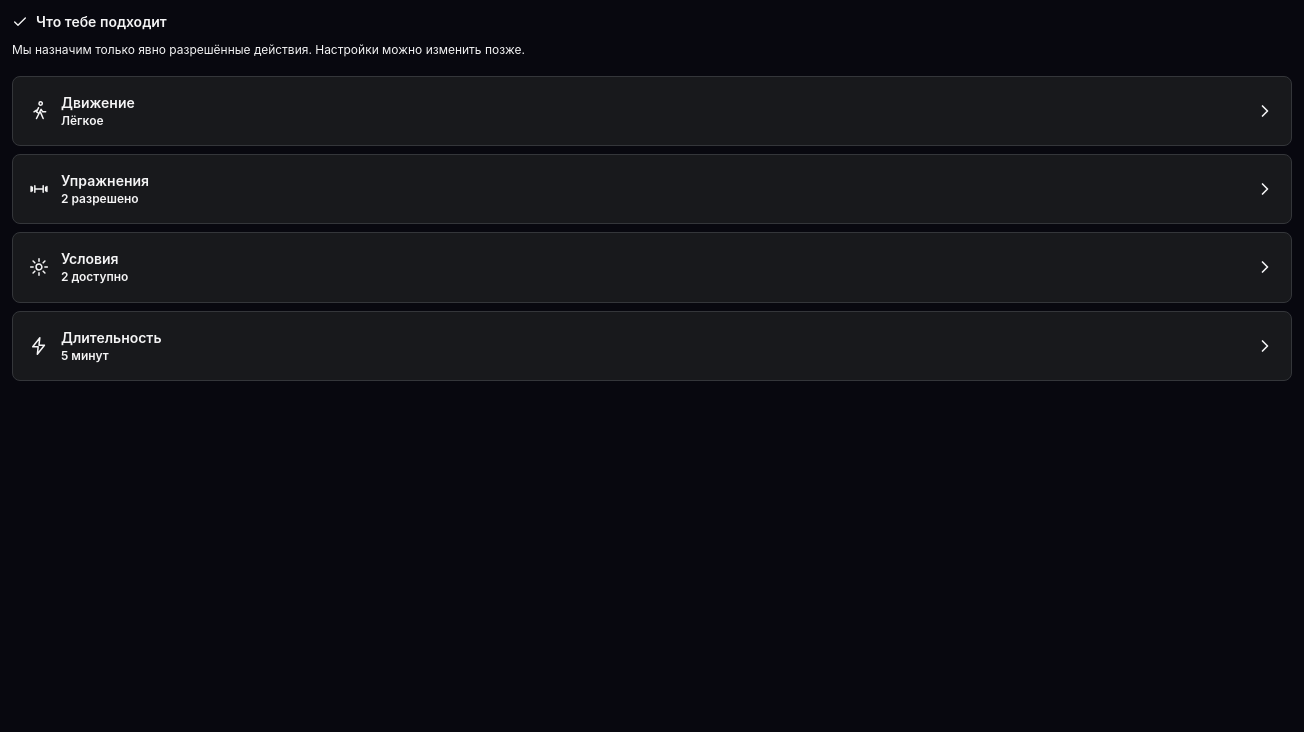
Test: персонализация пробуждения › показывает заполненную анкету компактно до нажатия редактирования
Click the button "Движение Лёгкое" at (98, 102), box x1=12 y1=76 x2=1292 y2=146
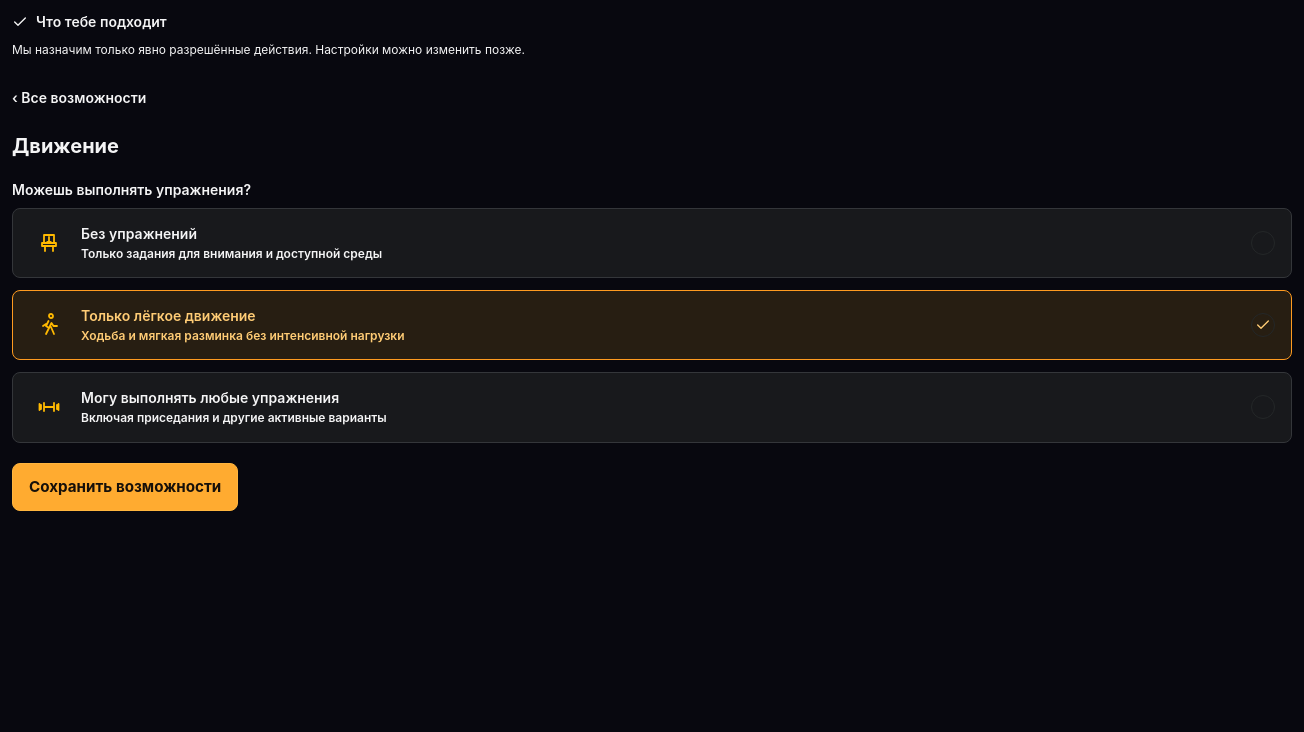
Click the button "‹ Все возможности" at (79, 98), box x1=12 y1=76 x2=146 y2=120
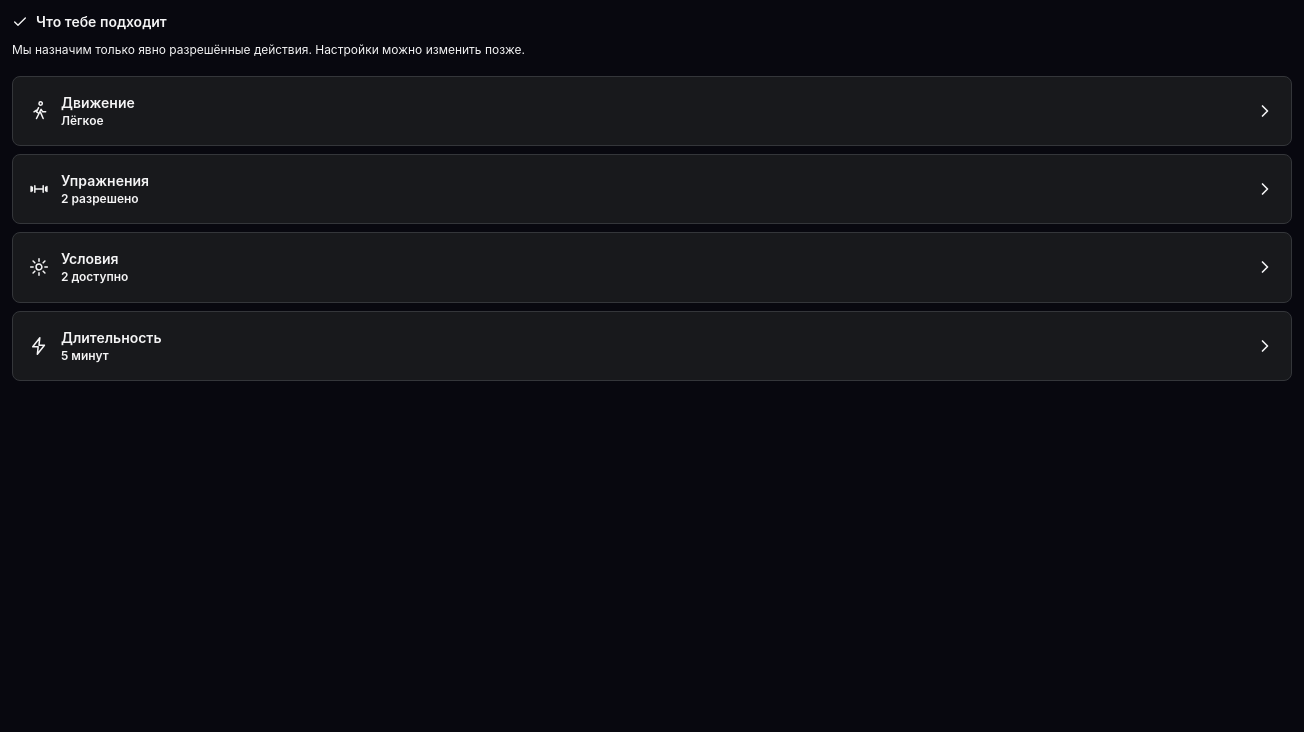
Click the button "Упражнения 2 разрешено" at (105, 181), box x1=12 y1=154 x2=1292 y2=224
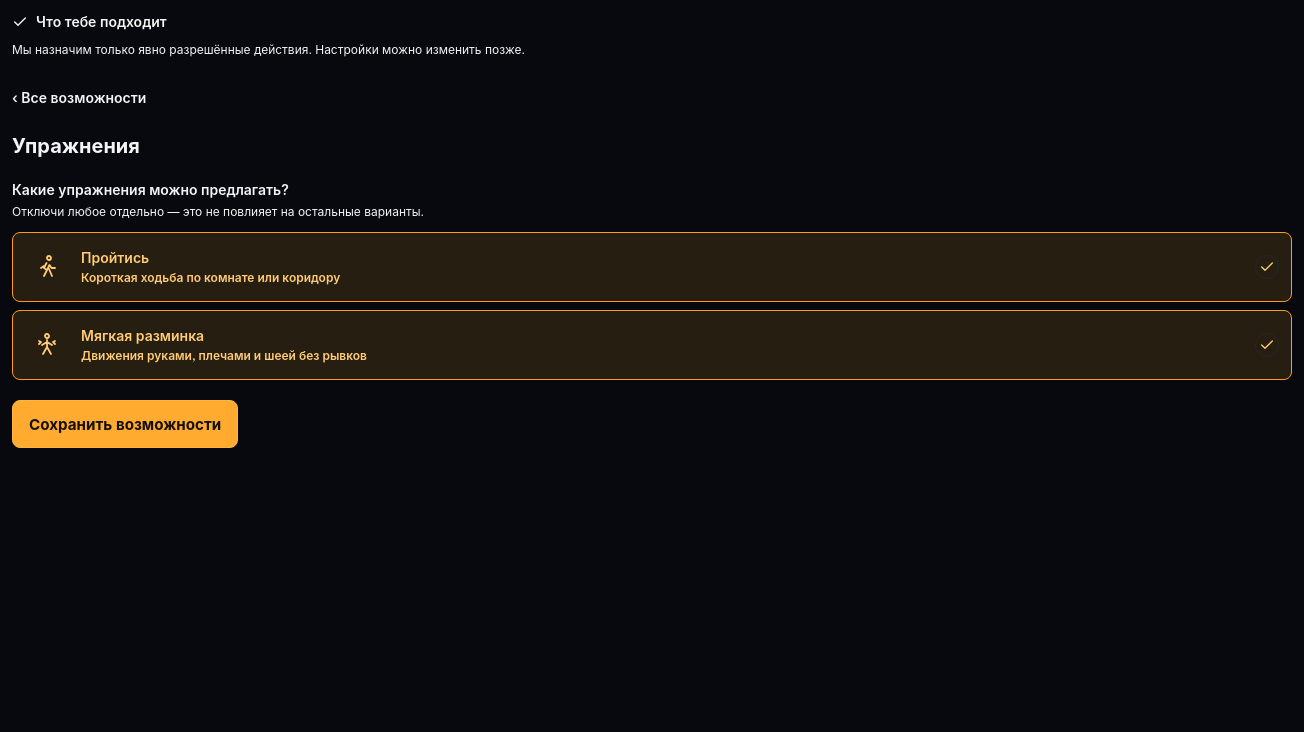
Expected: the text "Пройтись" is shown, x1=81 y1=249 x2=149 y2=266
Expected: the text "Мягкая разминка" is shown, x1=81 y1=327 x2=204 y2=344
Click the button "‹ Все возможности" at (79, 98), box x1=12 y1=76 x2=146 y2=120
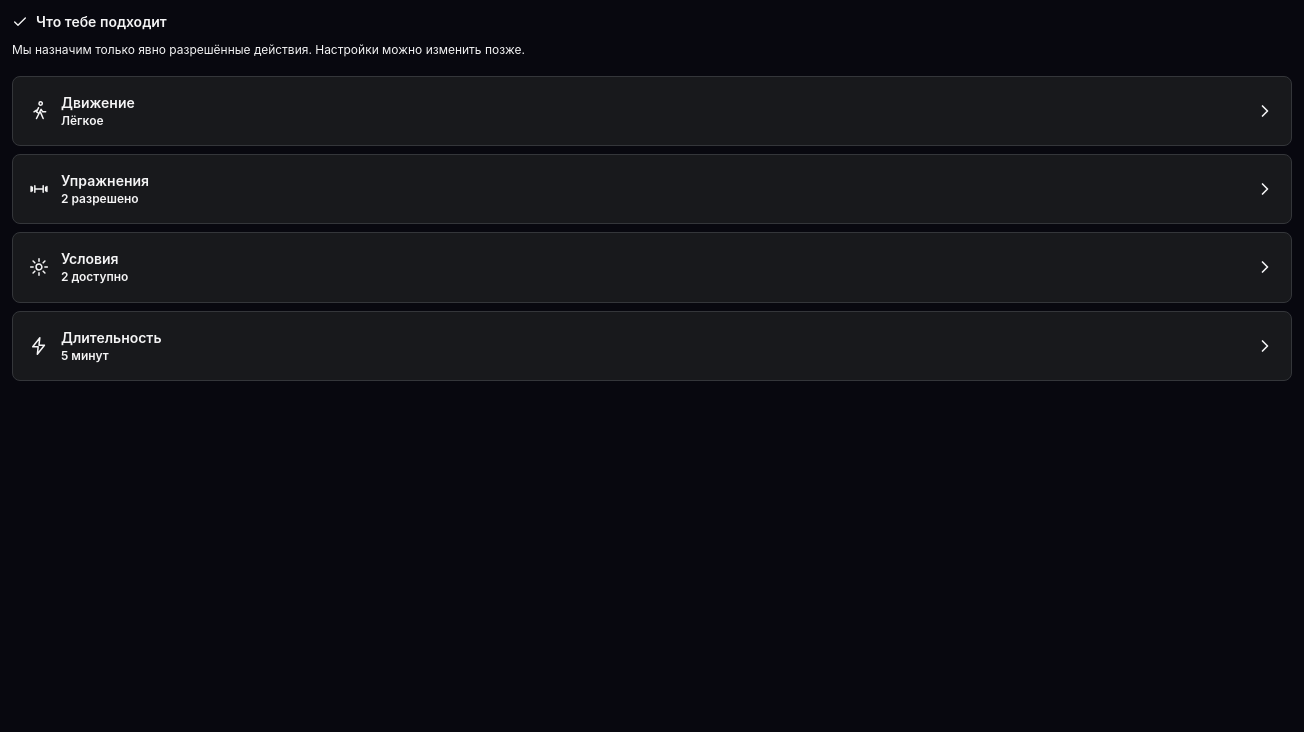
Click the button "Условия 2 доступно" at (90, 259), box x1=12 y1=232 x2=1292 y2=303
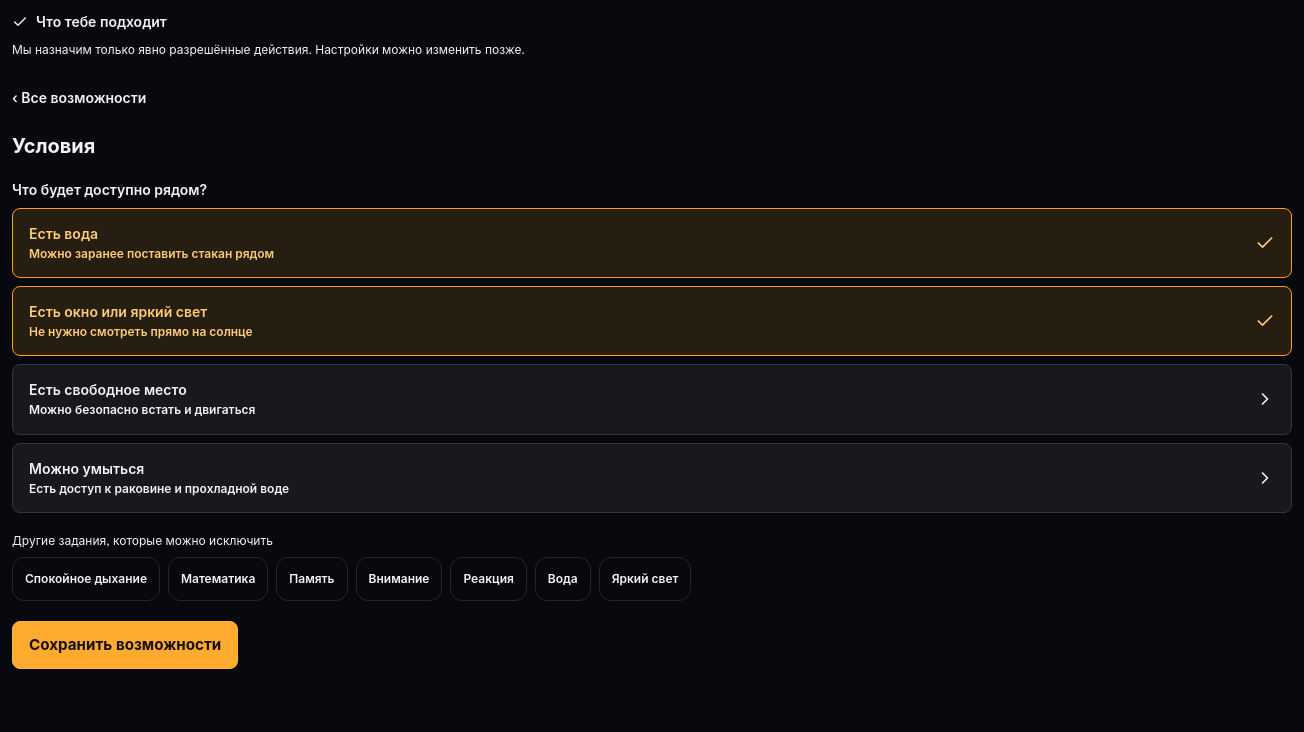
Expected: the text "яркий свет" is shown, x1=29 y1=303 x2=207 y2=320
